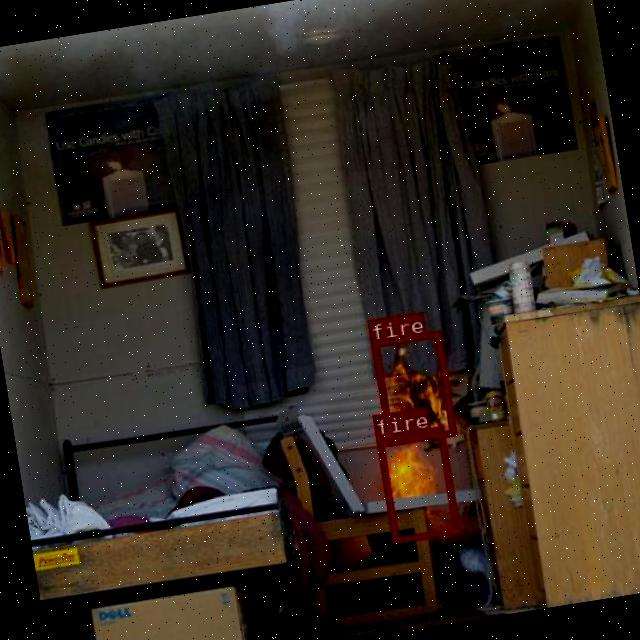fire: (370, 330, 456, 446), (376, 426, 460, 543)
